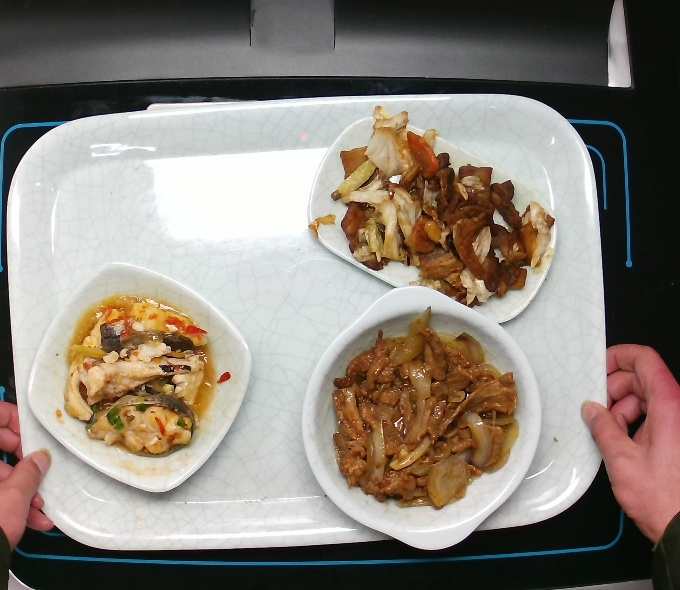wcq-DuoJiaoYuKuai: (56, 301, 212, 452)
wcq-PaoCaiRouPian: (334, 120, 556, 304)
wcq-YangCongRouPian: (333, 326, 521, 511)
